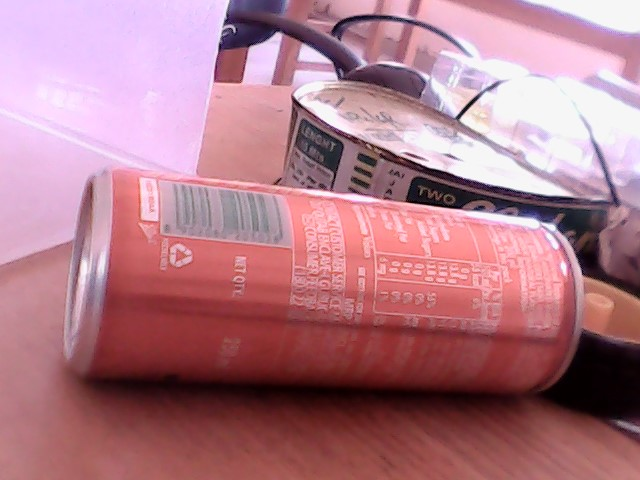Metal: (58, 170, 575, 400)
